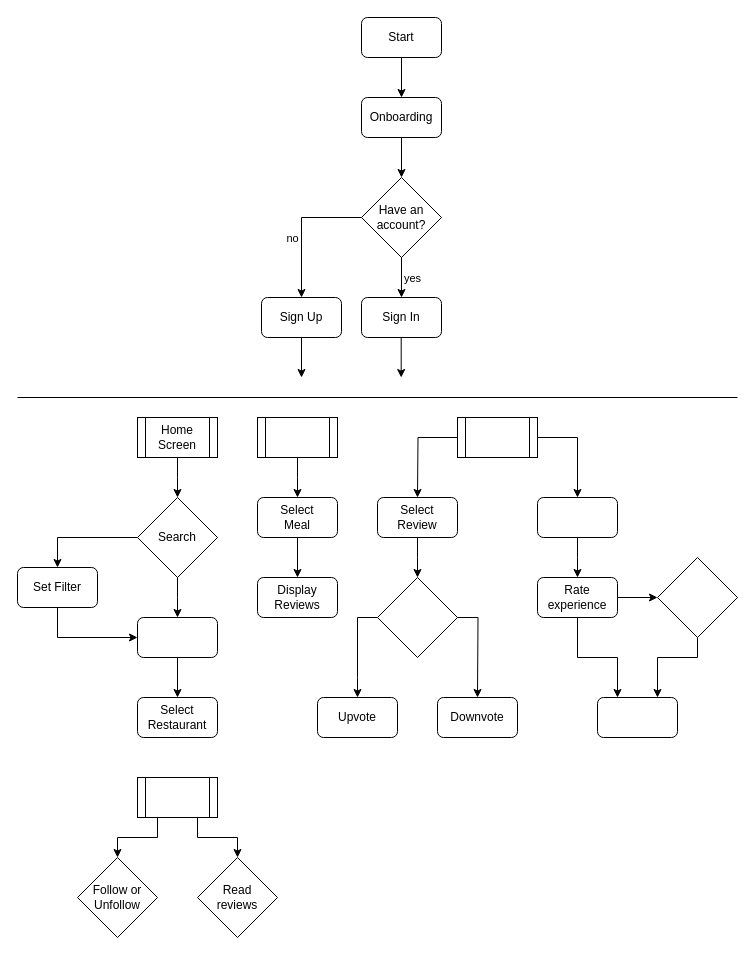
Image size: 756x955. Some labels were removed from this diagram. Here are the shapes that lost their labels. From the top down, the centre of each, then its label:
At point (297, 437): "Restaurant".
At point (497, 437): "Reviews".
At point (577, 517): "Add Review".
At point (417, 617): "Vote Review".
At point (697, 597): "Add Photo".
At point (177, 637): "Result".
At point (637, 717): "Share Review".
At point (177, 797): "Profile Page".
